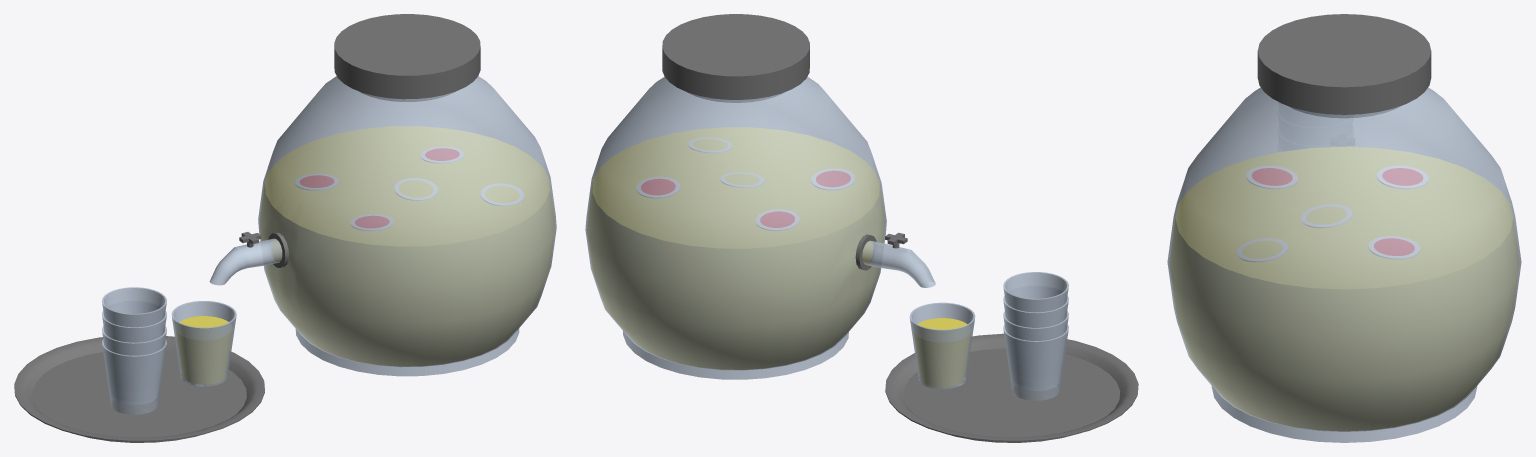
Rendered from Lemonade.fbx.
3 views of the same model, side by side, from view 1: azimuth 30°, elevation 25°; view 2: azimuth 150°, elevation 25°; view 3: azimuth 270°, elevation 25° (orthographic). The views are drawn at different scales.
Visible parts, largest first — view 1: Circle.003, Circle.004, Circle.005, Circle.006, Circle.009, Circle.008, Circle.007; view 2: Circle.003, Circle.004, Circle.005, Circle.006, Circle.009, Circle.008, Circle.007; view 3: Circle.003.
Boxes of the visible parts, x1=… form: Circle.003: x1=209, y1=14, x2=556, y2=376; Circle.004: x1=14, y1=336, x2=264, y2=442; Circle.005: x1=171, y1=301, x2=236, y2=386; Circle.006: x1=102, y1=339, x2=166, y2=414; Circle.009: x1=102, y1=287, x2=166, y2=327; Circle.008: x1=102, y1=311, x2=166, y2=342; Circle.007: x1=102, y1=326, x2=166, y2=355; Circle.003: x1=585, y1=14, x2=935, y2=379; Circle.004: x1=885, y1=333, x2=1138, y2=442; Circle.005: x1=909, y1=302, x2=975, y2=389; Circle.006: x1=1003, y1=324, x2=1068, y2=400; Circle.009: x1=1003, y1=272, x2=1068, y2=312; Circle.008: x1=1003, y1=296, x2=1068, y2=327; Circle.007: x1=1003, y1=311, x2=1068, y2=340; Circle.003: x1=1167, y1=14, x2=1521, y2=442.
Size of the model in its own units: 162 by 86.65 by 82.71.
